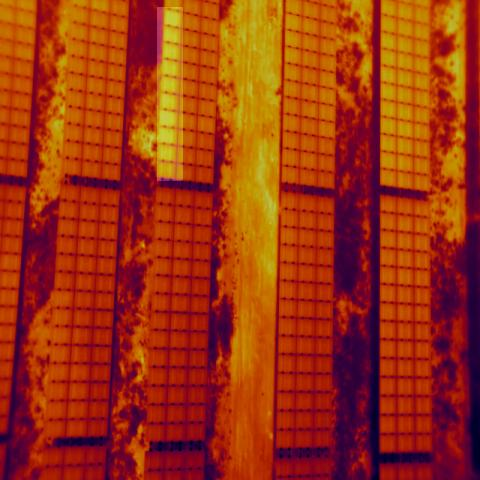fault: (157, 7, 183, 181)
